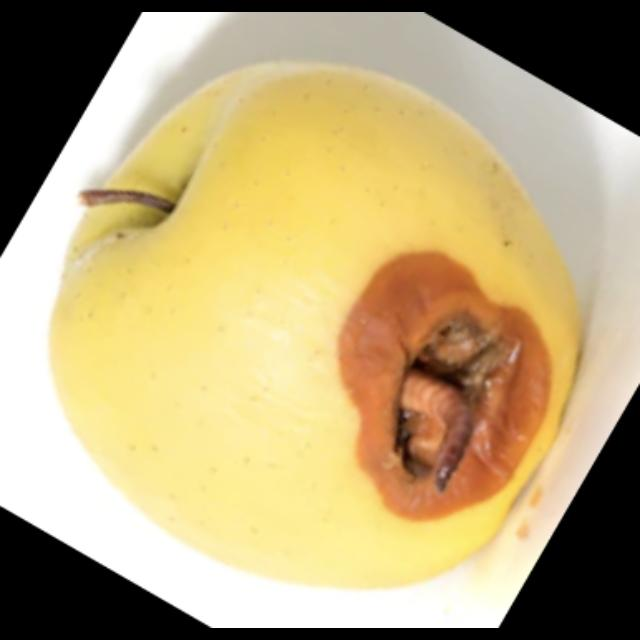Apel Tidak Segar: (41, 49, 593, 597)
